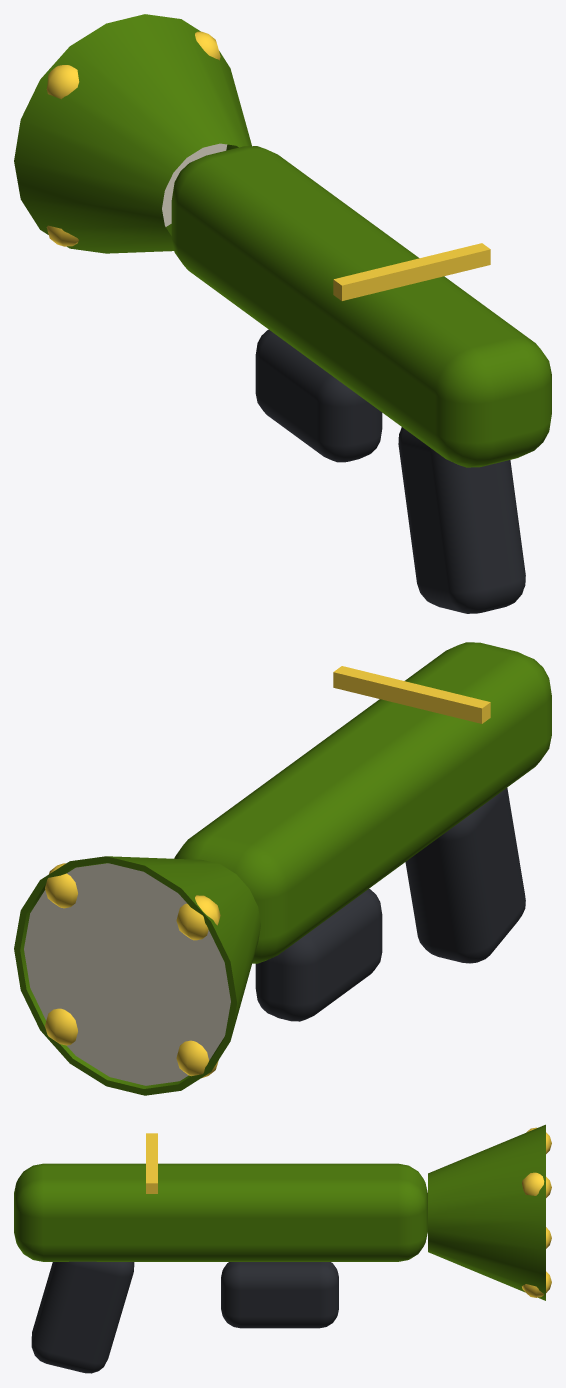
The model's file is net_launcher.glb.
3 renders of one model, top to bottom at view 1: azimuth 30°, elevation 25°; view 2: azimuth 150°, elevation 25°; view 3: azimuth 270°, elevation 25°, orthographic. The views are drawn at different scales.
Visible parts, largest first — view 1: main, loaded_net; view 2: main, loaded_net; view 3: main.
Boxes of the visible parts, x1,y1,x2,y2 form: main: [14, 14, 551, 613]; loaded_net: [162, 143, 227, 226]; main: [14, 642, 551, 1095]; loaded_net: [24, 863, 230, 1085]; main: [14, 1124, 551, 1373].
Bounding box in the file's own units: 0.18 × 0.2619 × 0.546.
